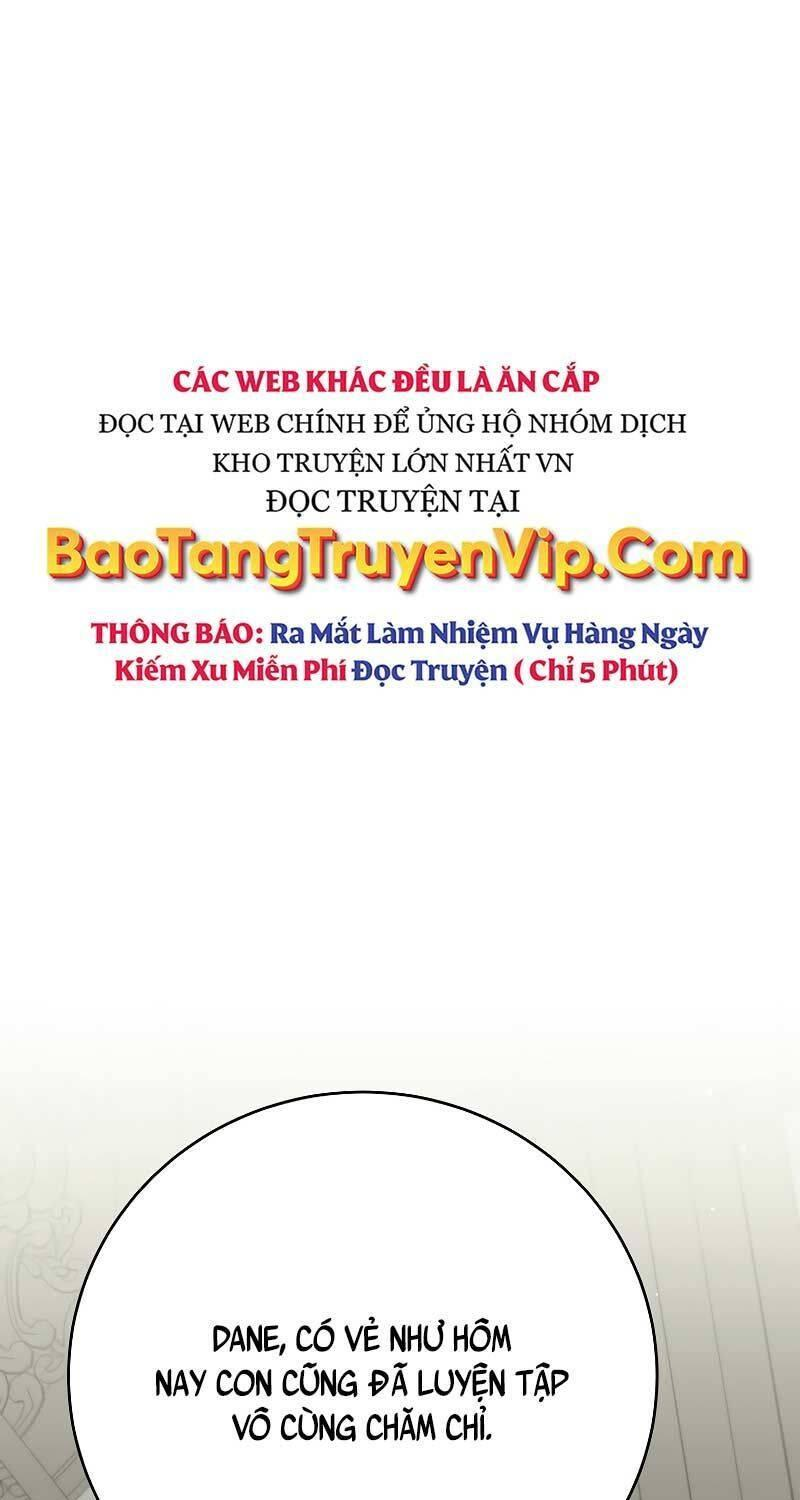quangcao: (34, 354, 760, 700)
